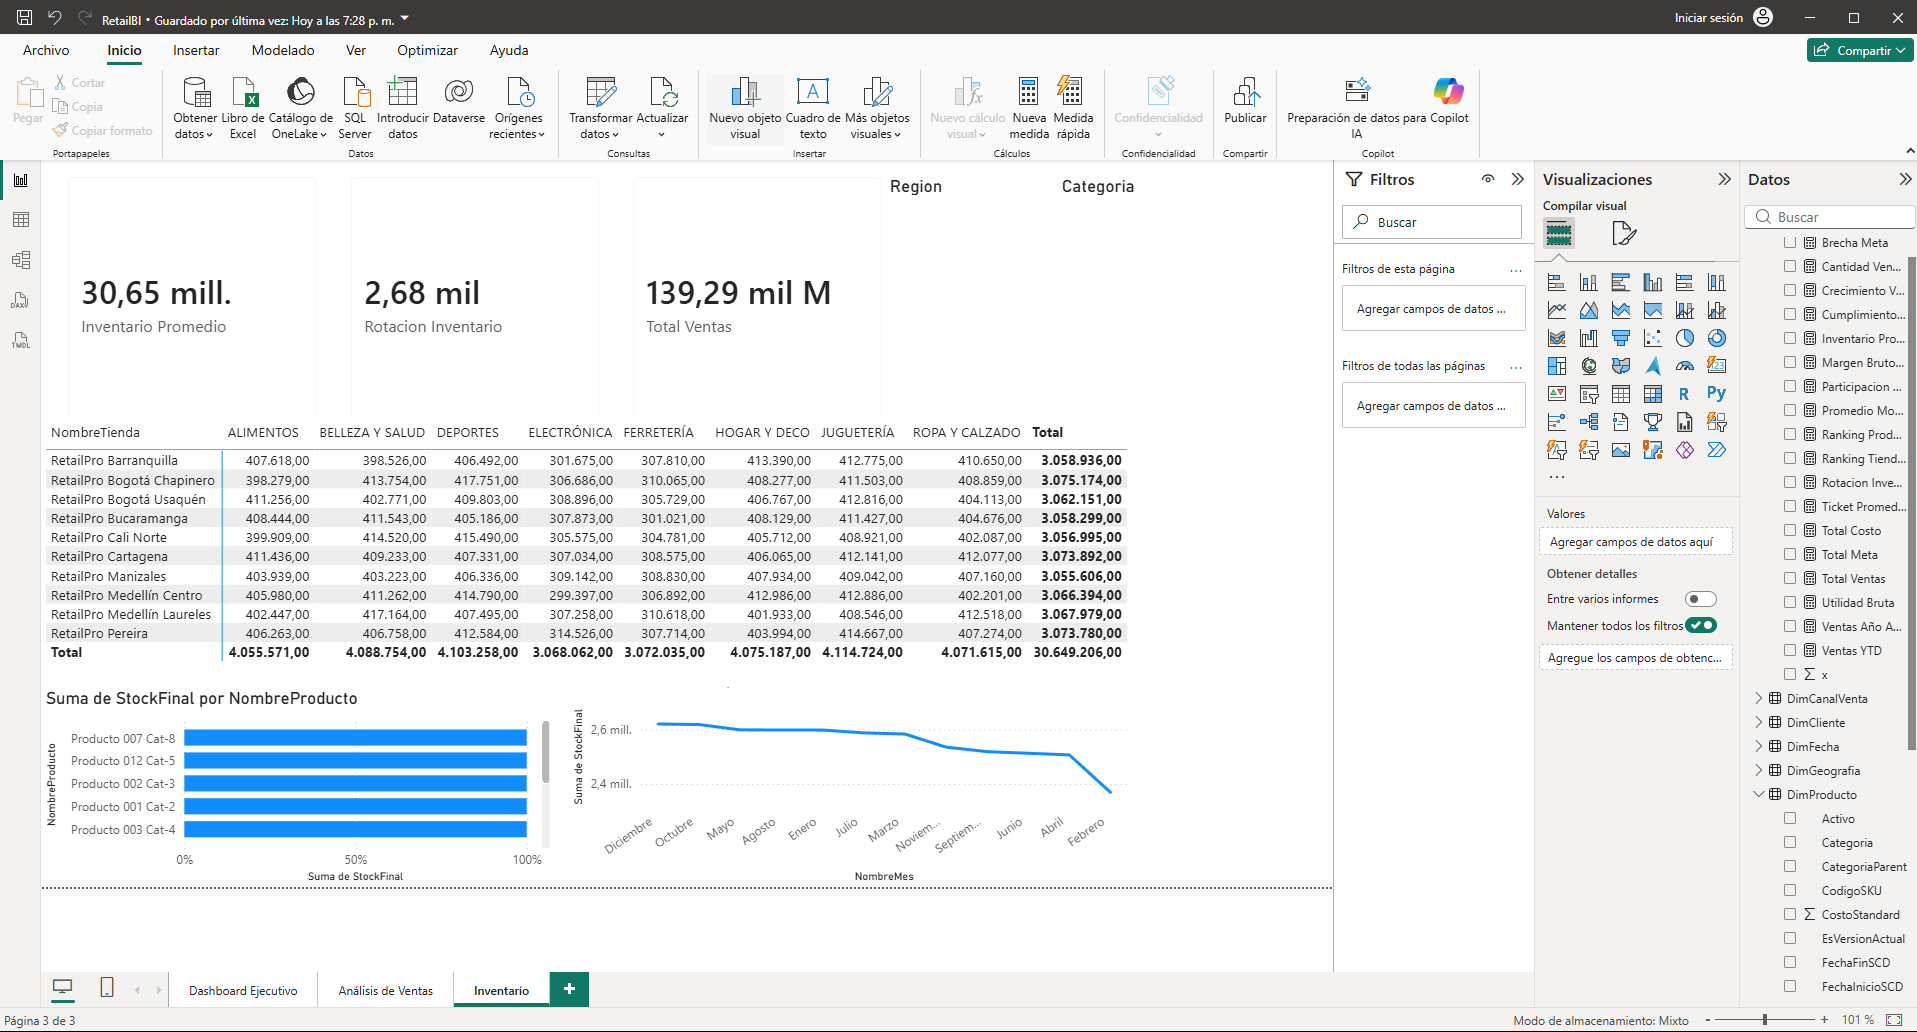

The page's visual inventory and layout, read from the dashboard file:
{"tool":"powerbi","page":{"name":"Inventario","canvas":[1280,720],"ordinal":2},"visuals":[{"type":"cardVisual","fields":{"Data":["_Medidas.Inventario Promedio"]},"box":[10,0,280,280],"z":0},{"type":"cardVisual","fields":{"Data":["_Medidas.Rotacion Inventario"]},"box":[289.8,0,280.1,280.1],"z":1000},{"type":"cardVisual","fields":{"Data":["_Medidas.Total Ventas"]},"box":[570,0,280.1,280.1],"z":2000},{"type":"hundredPercentStackedBarChart","fields":{"Category":["DimProducto.NombreProducto"],"Y":["Sum(FactInventarioDiario.StockFinal)"]},"box":[0,523.1,509.2,197.2],"z":3000},{"type":"lineChart","fields":{"Category":["DimFecha.NombreMes"],"Y":["Sum(FactInventarioDiario.StockFinal)"]},"box":[522.1,504.3,558.8,216],"z":4000},{"type":"pivotTable","fields":{"Rows":["DimTienda.NombreTienda"],"Columns":["DimProducto.Categoria"],"Values":["_Medidas.Inventario Promedio"]},"box":[0,254.6,1088.8,268.5],"z":5000},{"type":"funnel","fields":{"Category":["DimTienda.Region"]},"box":[836.2,15.9,170.4,180.3],"z":6000},{"type":"funnel","fields":{"Category":["DimProducto.Categoria"]},"box":[836.2,99.1,109,80.2],"z":7000}]}

Visuals, with their boxes on the page's 1280x720 design canvas (x1, y1, x2, y2). These are canvas units, not pixel positions in the 1917x1032 screenshot, which may show the page scaled, cropped or inside an application window:
cardVisual - _Medidas.Inventario Promedio: {"left": 10, "top": 0, "right": 290, "bottom": 280}
cardVisual - _Medidas.Rotacion Inventario: {"left": 290, "top": 0, "right": 570, "bottom": 280}
cardVisual - _Medidas.Total Ventas: {"left": 570, "top": 0, "right": 850, "bottom": 280}
hundredPercentStackedBarChart - DimProducto.NombreProducto x Sum(FactInventarioDiario.StockFinal): {"left": 0, "top": 523, "right": 509, "bottom": 720}
lineChart - DimFecha.NombreMes x Sum(FactInventarioDiario.StockFinal): {"left": 522, "top": 504, "right": 1081, "bottom": 720}
pivotTable - DimTienda.NombreTienda x DimProducto.Categoria: {"left": 0, "top": 255, "right": 1089, "bottom": 523}
funnel - DimTienda.Region: {"left": 836, "top": 16, "right": 1007, "bottom": 196}
funnel - DimProducto.Categoria: {"left": 836, "top": 99, "right": 945, "bottom": 179}
